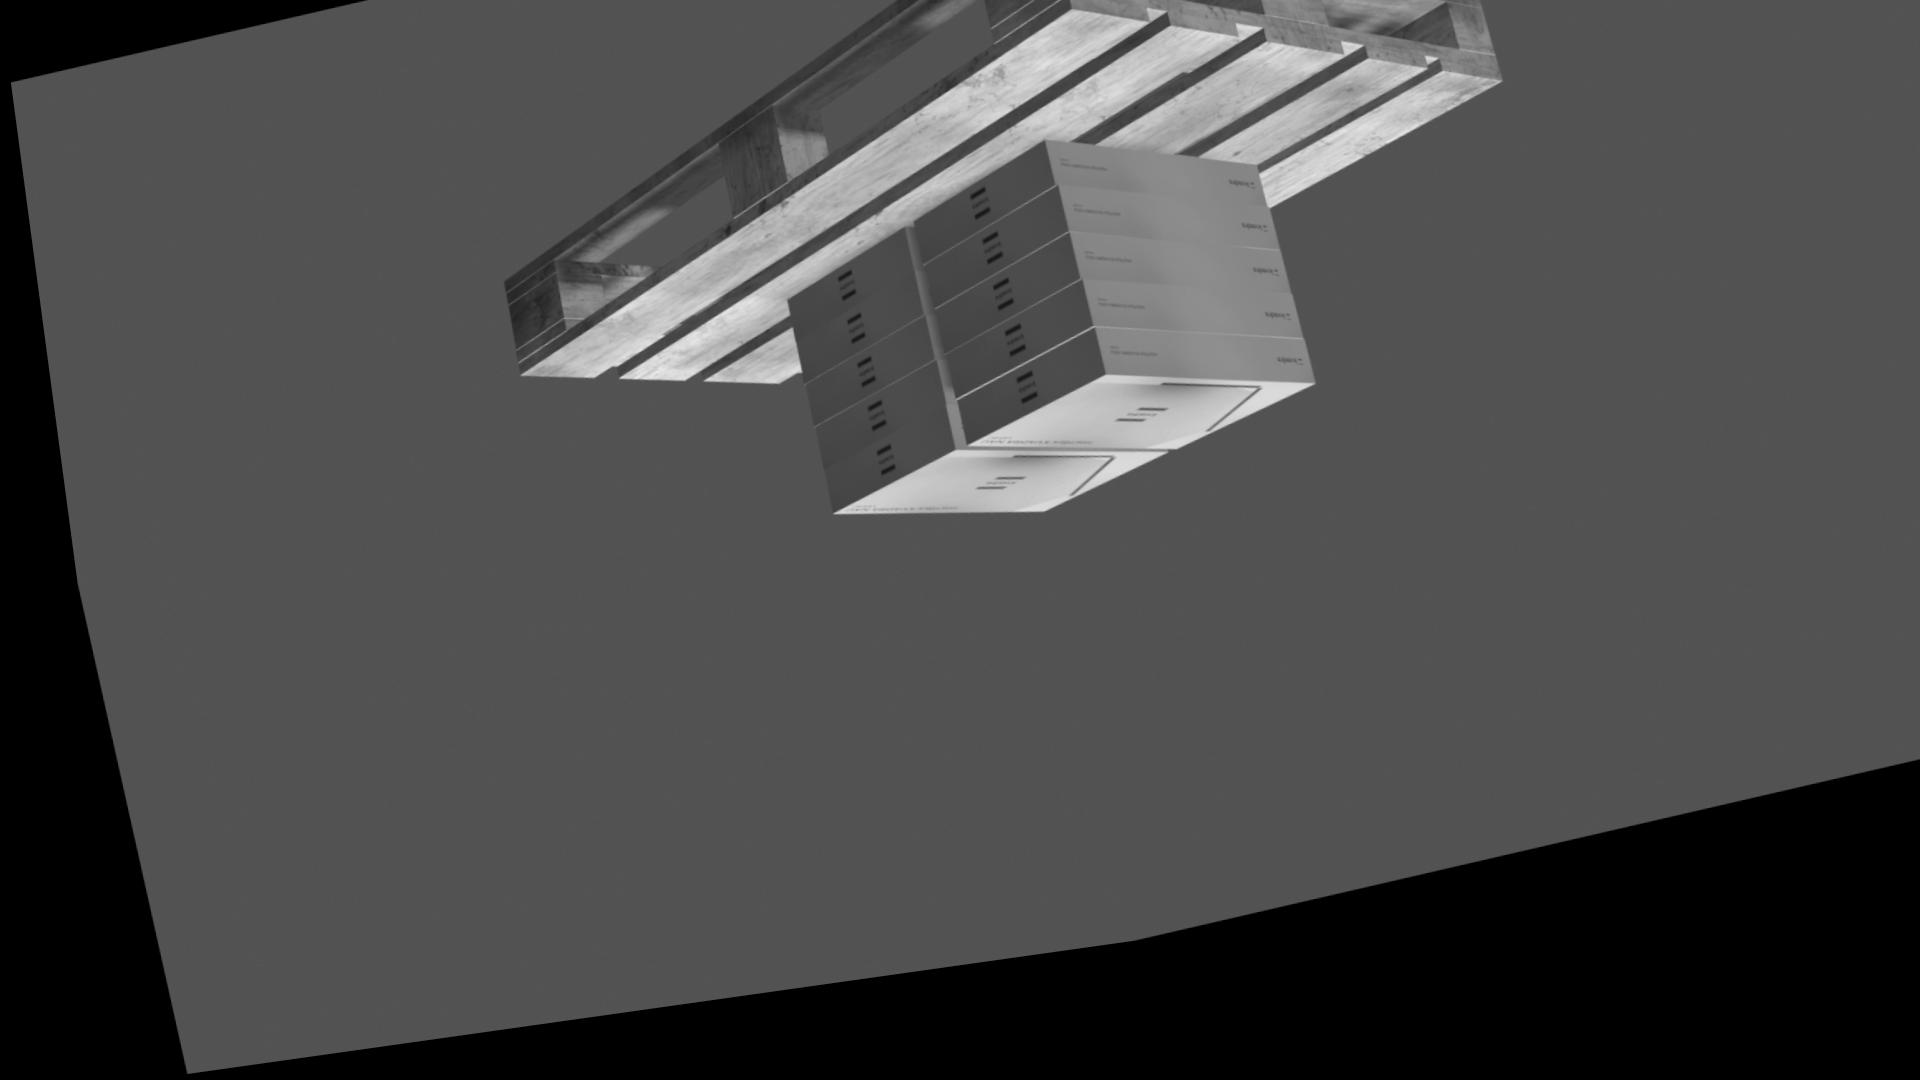laptop_left: (912, 214, 1268, 334), (903, 169, 1256, 289), (924, 263, 1278, 379), (932, 309, 1289, 423), (941, 357, 1300, 469), (783, 295, 924, 405), (775, 251, 912, 362), (808, 429, 950, 536), (792, 340, 931, 449), (800, 385, 940, 491)
laptop_top: (952, 405, 1297, 481), (817, 476, 1149, 539)
palet: (493, 0, 1495, 404)
